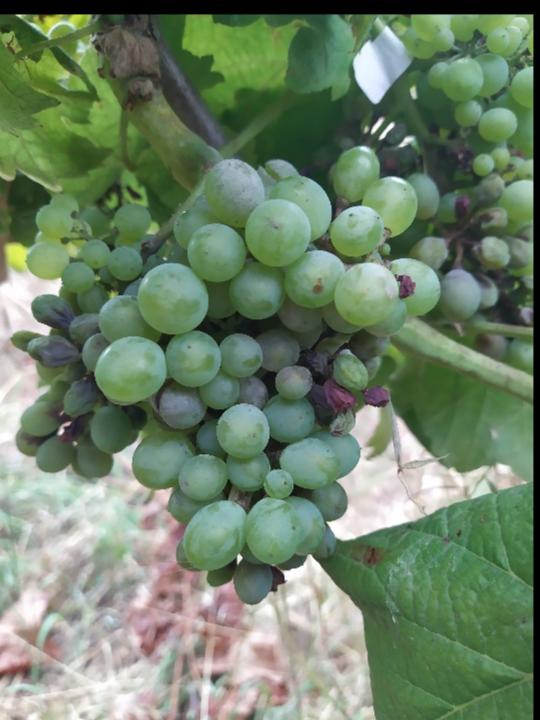grape: (14, 141, 445, 610)
